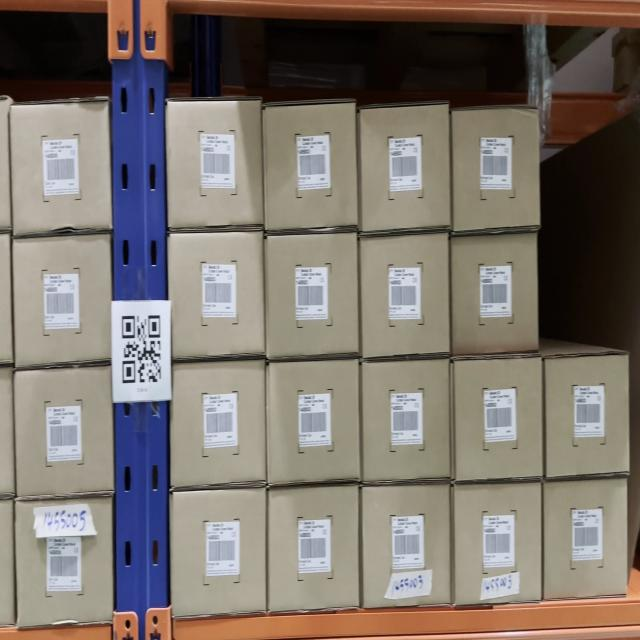box: (13, 237, 111, 362), (14, 373, 112, 495), (169, 100, 261, 227), (13, 106, 108, 228), (264, 106, 357, 228), (172, 237, 263, 357), (19, 506, 110, 624), (176, 491, 266, 609), (271, 361, 360, 480), (269, 237, 357, 354), (174, 370, 265, 483), (270, 491, 360, 605), (362, 110, 450, 226), (453, 109, 538, 228), (454, 364, 543, 475), (362, 491, 450, 601), (454, 237, 538, 352), (364, 240, 449, 352), (364, 364, 449, 476), (545, 481, 626, 597), (547, 358, 628, 473), (456, 491, 541, 599)
